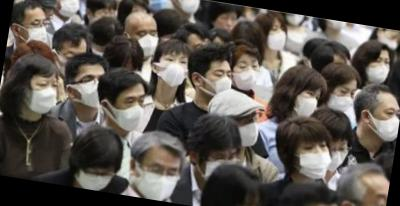with_mask: (134, 157, 184, 204), (295, 137, 338, 184), (24, 76, 62, 117), (204, 148, 242, 186), (116, 91, 147, 135), (157, 50, 190, 90), (369, 104, 400, 146), (76, 163, 118, 193), (234, 109, 264, 150), (232, 56, 264, 94), (76, 70, 107, 109), (327, 82, 359, 115), (22, 12, 53, 46), (364, 53, 394, 88), (132, 25, 161, 59), (324, 140, 352, 175), (208, 66, 237, 99), (295, 88, 322, 121), (58, 49, 85, 80), (264, 23, 290, 54), (379, 31, 400, 53), (362, 190, 388, 206)
without_mask: (217, 12, 239, 35)
